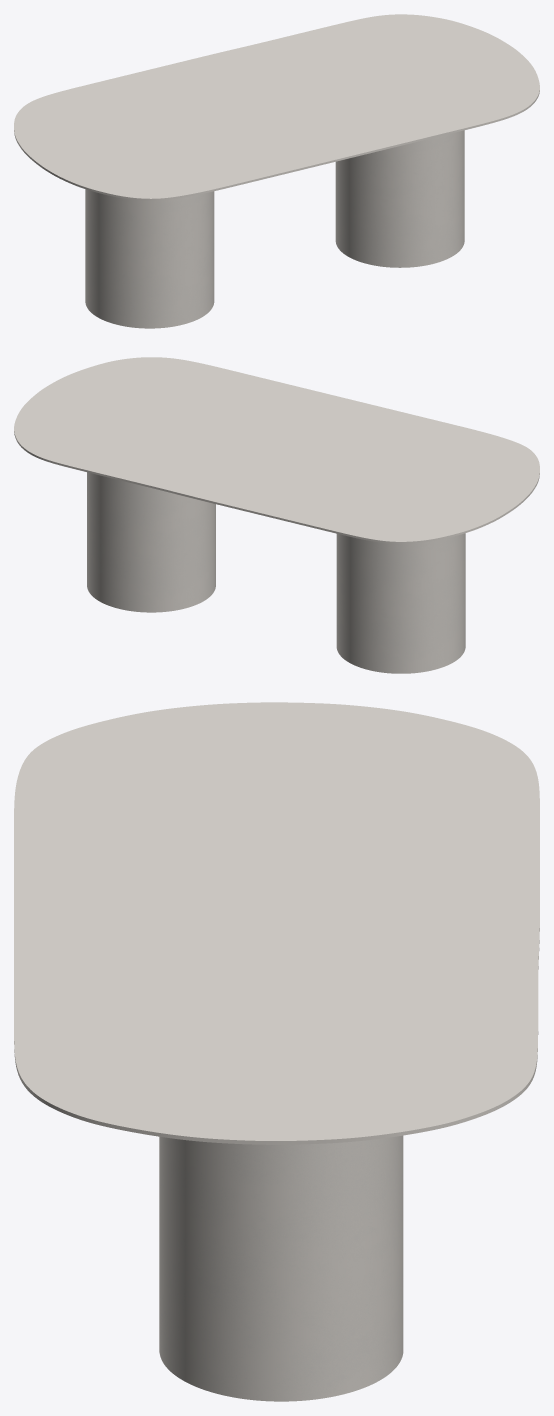
Rendered from pearlwhite_oval_facet_stream.glb.
3 views of the same model, one above another, from view 1: azimuth 30°, elevation 25°; view 2: azimuth 150°, elevation 25°; view 3: azimuth 270°, elevation 25° (orthographic). The views are drawn at different scales.
Visible parts, largest first — view 1: facet_oval, stream; view 2: facet_oval, stream; view 3: facet_oval, stream.
Boxes of the visible parts, x1,y1,x2,y2 form: facet_oval: (14, 14, 539, 200); stream: (85, 130, 464, 328); facet_oval: (14, 357, 539, 543); stream: (87, 472, 465, 673); facet_oval: (14, 702, 539, 1144); stream: (159, 1135, 403, 1401).
Bounding box in the file's own units: 7.5 × 2.5 × 3.8.
Materials: 1 (1 with a texture image).
